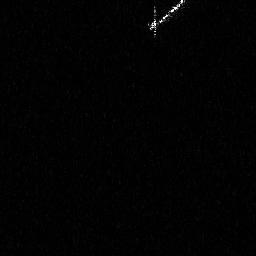ship: (146, 1, 185, 39)
